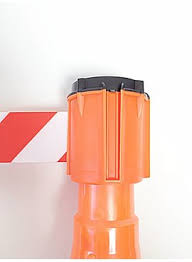cones: (78, 179, 142, 262)
